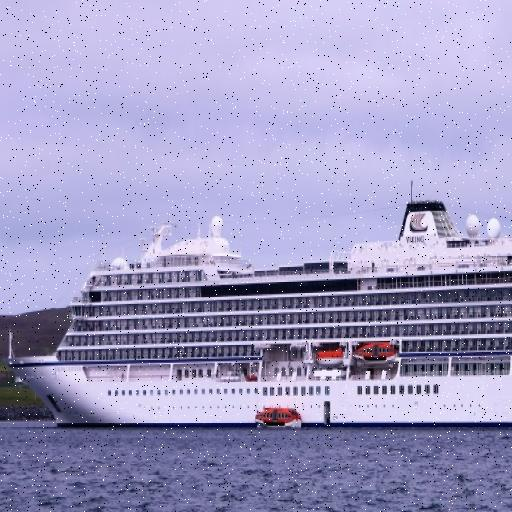cruises: (5, 198, 512, 438)
